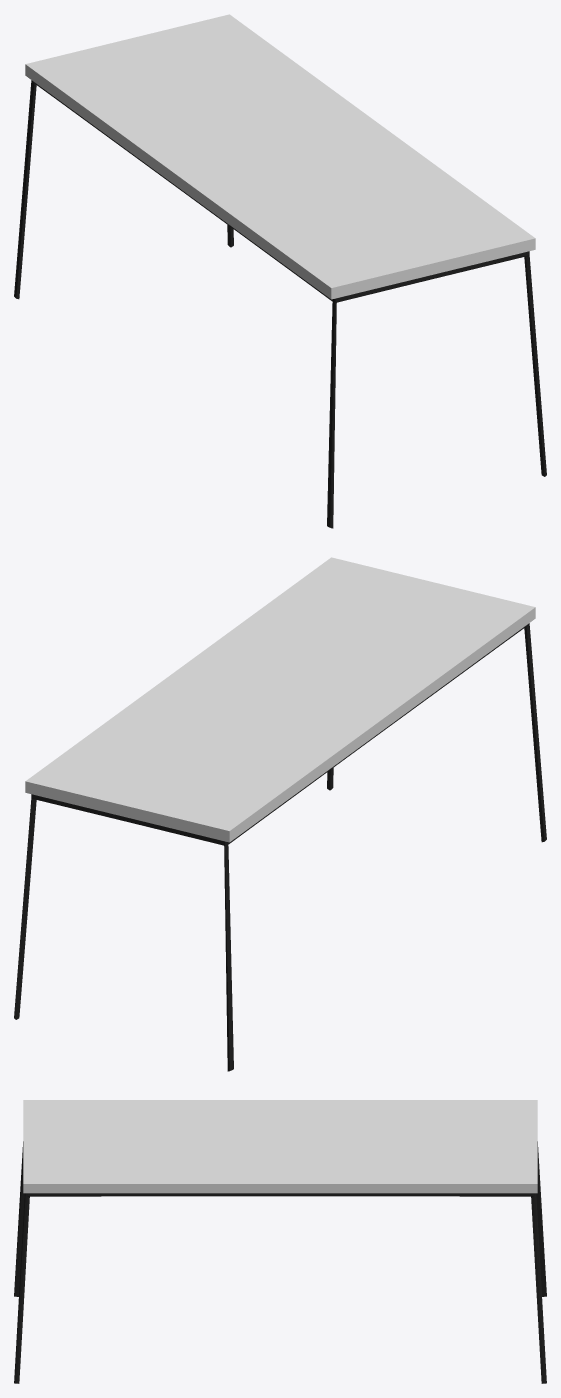
File: table.obj
3 renders of one model, top to bottom at view 1: azimuth 30°, elevation 25°; view 2: azimuth 150°, elevation 25°; view 3: azimuth 270°, elevation 25°, orthographic. The views are drawn at different scales.
Parts seen in each view (by area): view 1: colored, base; view 2: colored, base; view 3: colored, base.
Boxes of the visible parts, x1=… form: colored: x1=25, y1=14, x2=535, y2=299; base: x1=14, y1=80, x2=546, y2=528; colored: x1=25, y1=557, x2=535, y2=842; base: x1=14, y1=623, x2=546, y2=1071; colored: x1=23, y1=1100, x2=537, y2=1193; base: x1=14, y1=1141, x2=546, y2=1383.
Size of the model in its own units: 1.2 by 1.24 by 3.03.
Materials: 1 (1 with a texture image).
